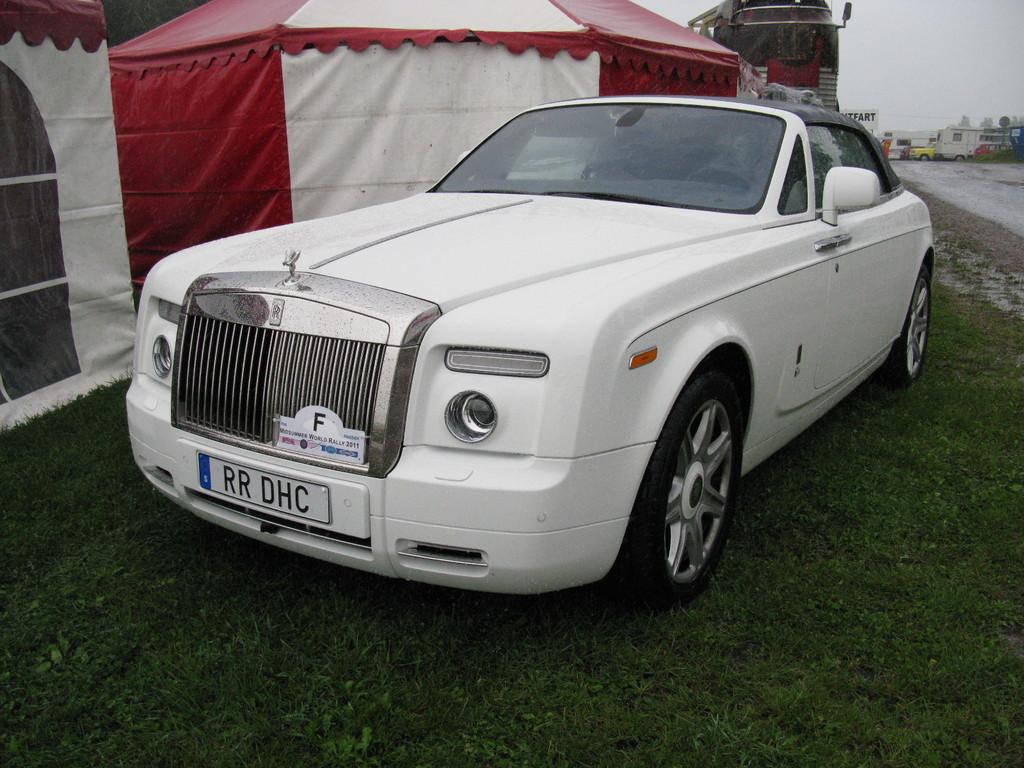Car: (125, 97, 937, 604), (974, 144, 1011, 156)
